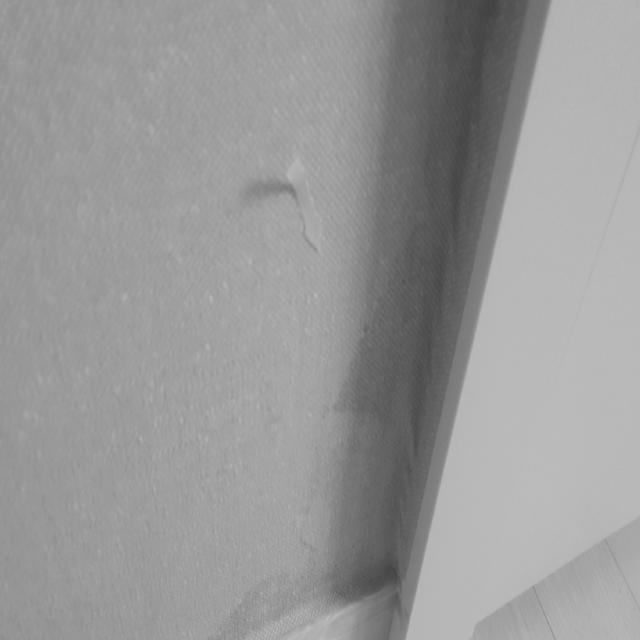stain marks: (325, 0, 499, 585), (199, 551, 369, 640), (218, 156, 296, 215)
